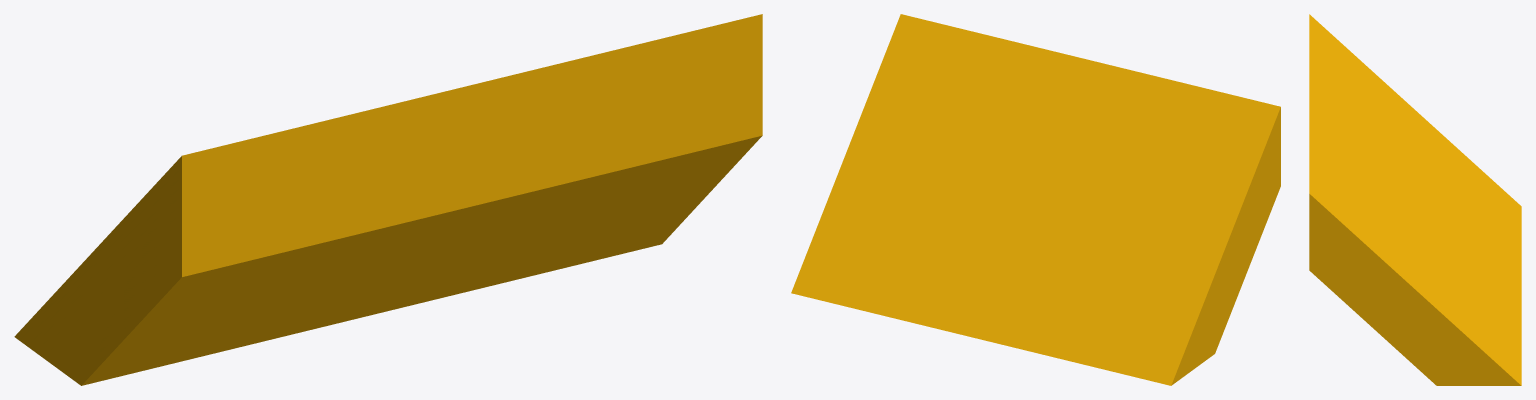
File: fender_corner_1x2.dae
3 views of the same model, side by side, from view 1: azimuth 30°, elevation 25°; view 2: azimuth 150°, elevation 25°; view 3: azimuth 270°, elevation 25° (orthographic). The views are drawn at different scales.
Parts seen in each view (by area): view 1: Cube; view 2: Cube; view 3: Cube.
Part boxes in pixels (x1=…): Cube: x1=14, y1=14, x2=762, y2=385; Cube: x1=791, y1=14, x2=1280, y2=385; Cube: x1=1309, y1=14, x2=1521, y2=385.
Bounding box in the file's own units: 0.5 × 0.25 × 0.25.
